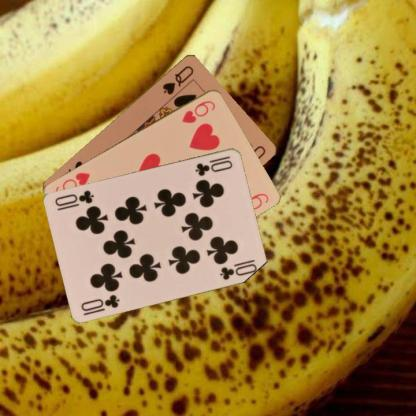10c: (78, 291, 122, 312), (192, 158, 234, 178)
6h: (179, 97, 217, 124)
Qs: (160, 62, 195, 96)
